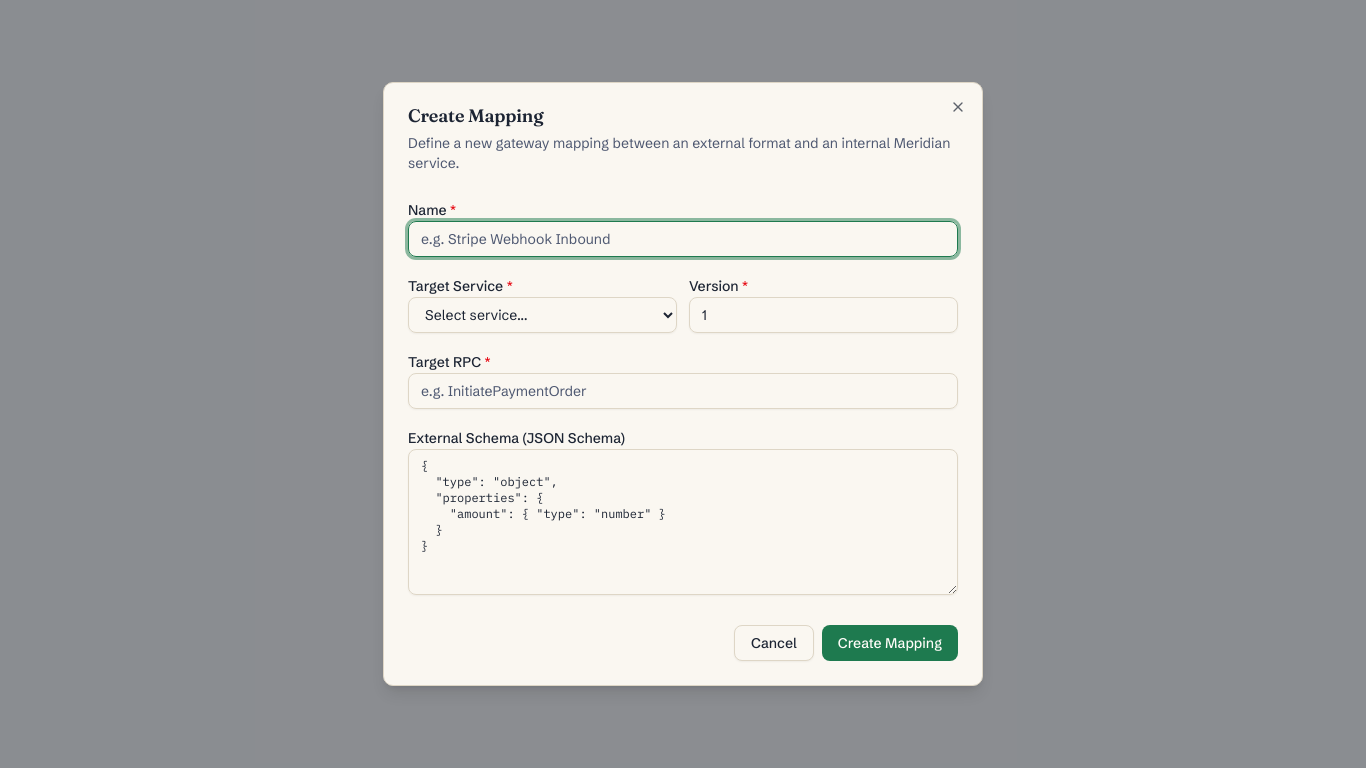
it: CreateMappingDialog - validation › shows validation error when target RPC not filled
Type "My Mapping" into the field labelled "Name *" at (683, 239), box [408,221,958,257]
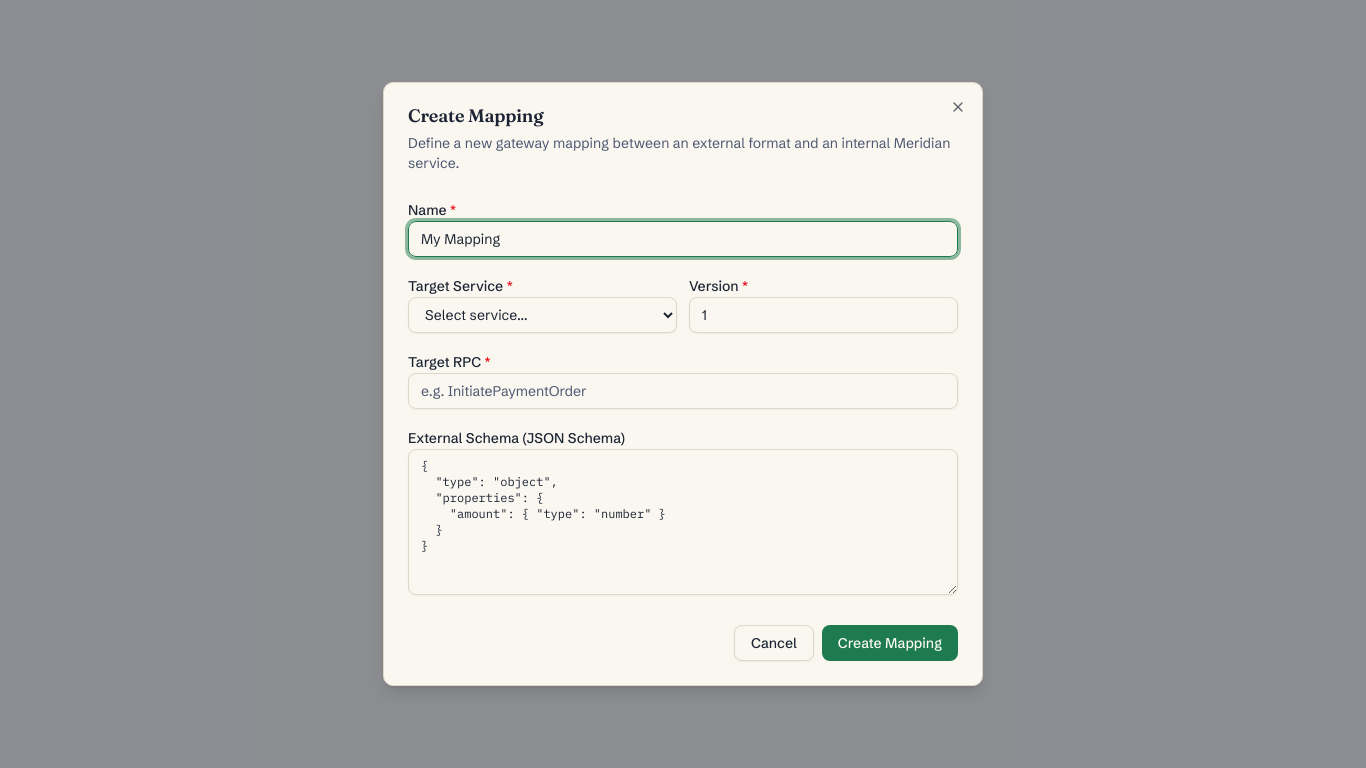
Select "Current Account" in the dropdown labelled "Target Service *" at (542, 315), box [408,297,677,333]
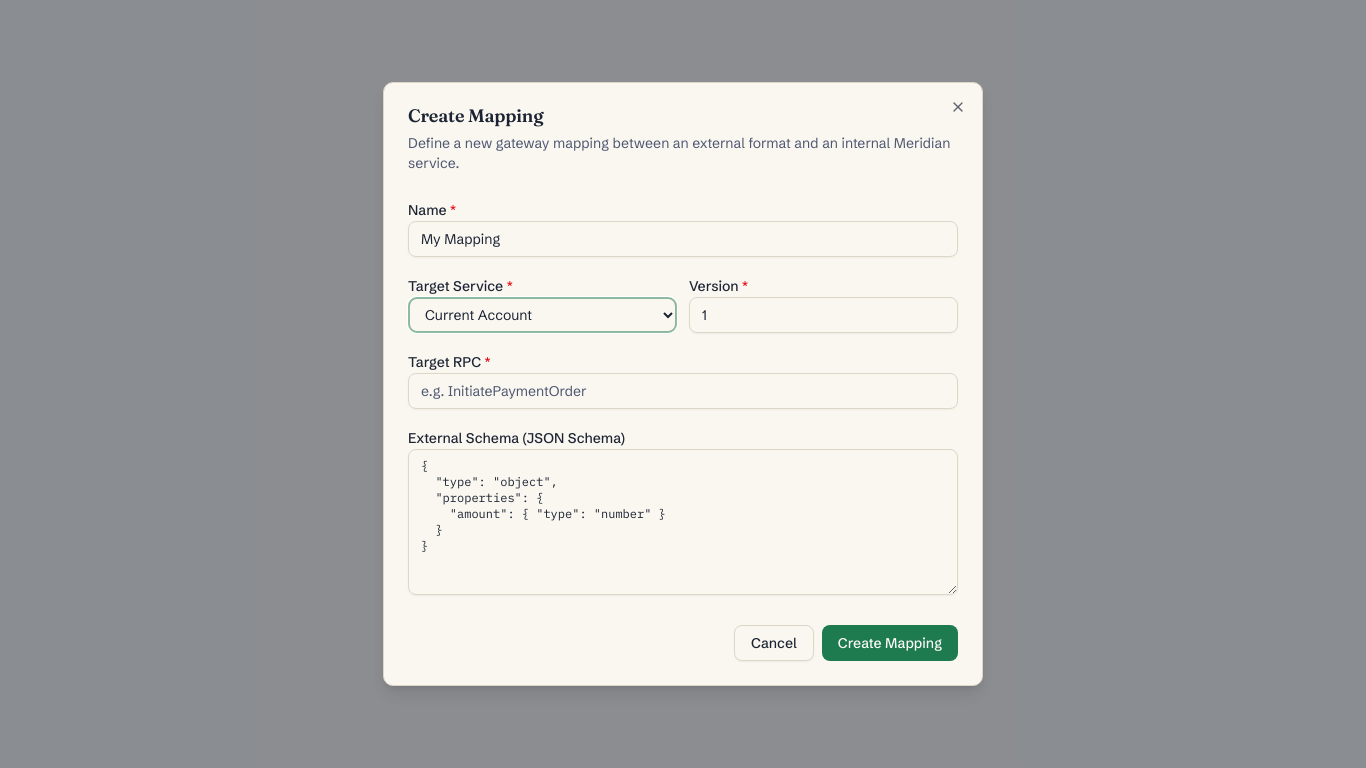
Click the button "Create Mapping" at (890, 643), box [822,625,958,661]
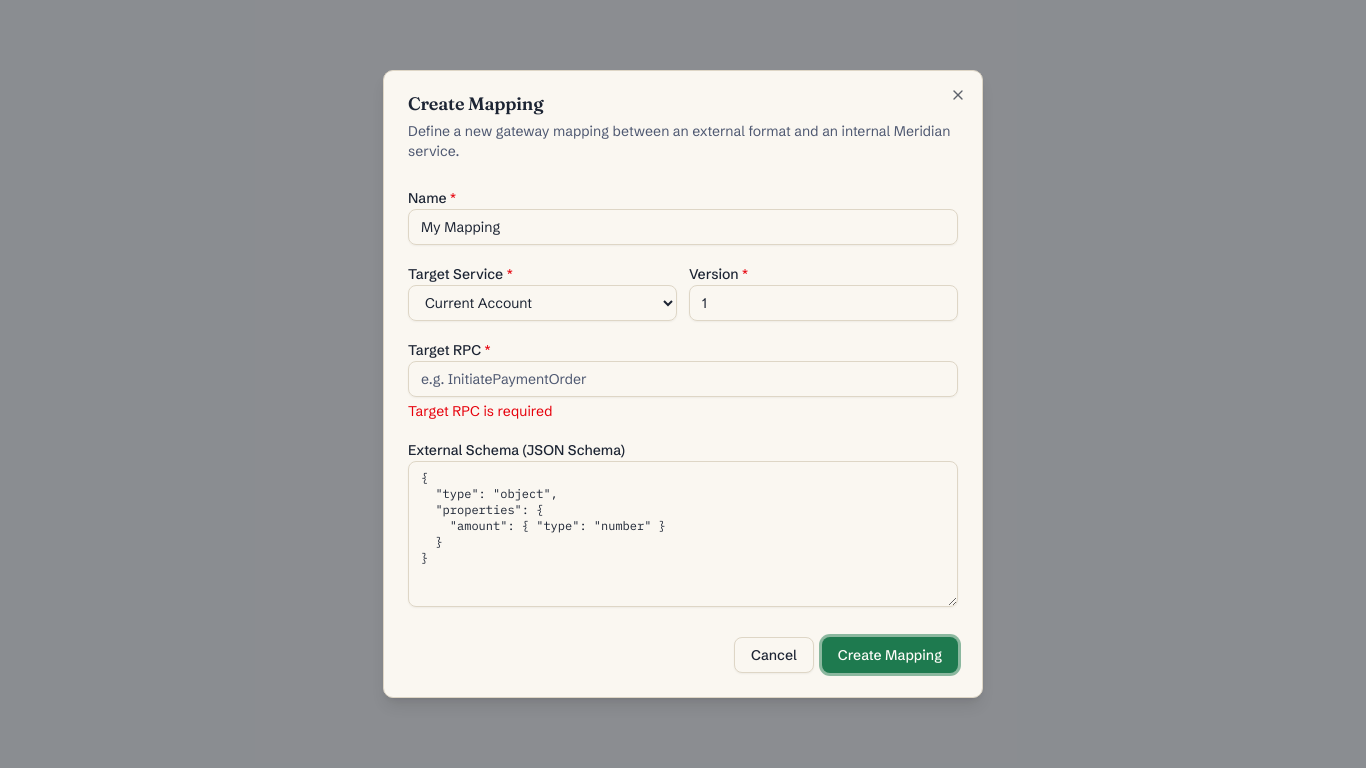
Check: the text "Target RPC is required" is shown, box [408,402,553,420]
